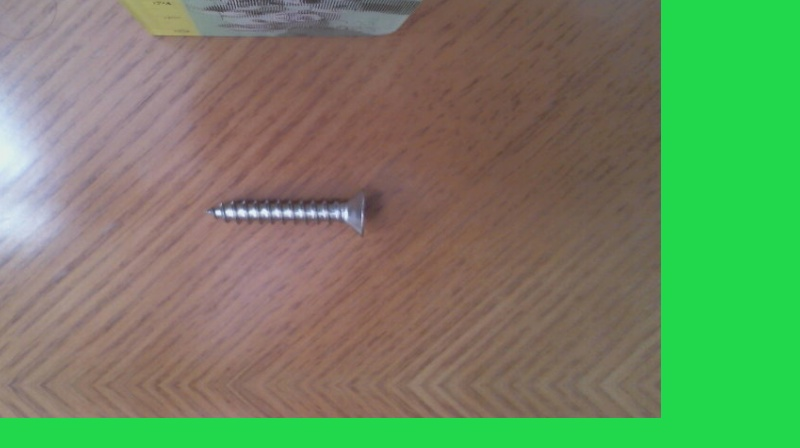S001: (199, 184, 371, 237)
